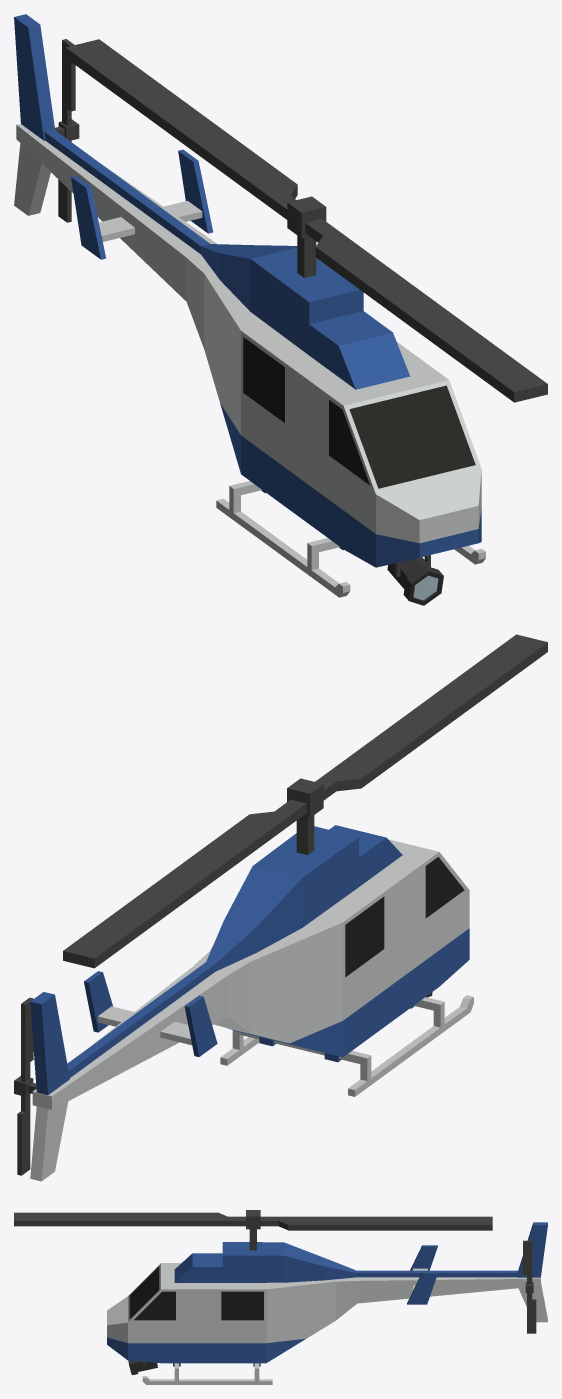
File: Veh_Police_Helicopter_01.obj
3 renders of one model, top to bottom at view 1: azimuth 30°, elevation 25°; view 2: azimuth 150°, elevation 25°; view 3: azimuth 270°, elevation 25°, orthographic. The views are drawn at different scales.
Size of the model in its own units: 1.02 by 2.16 by 6.44.
